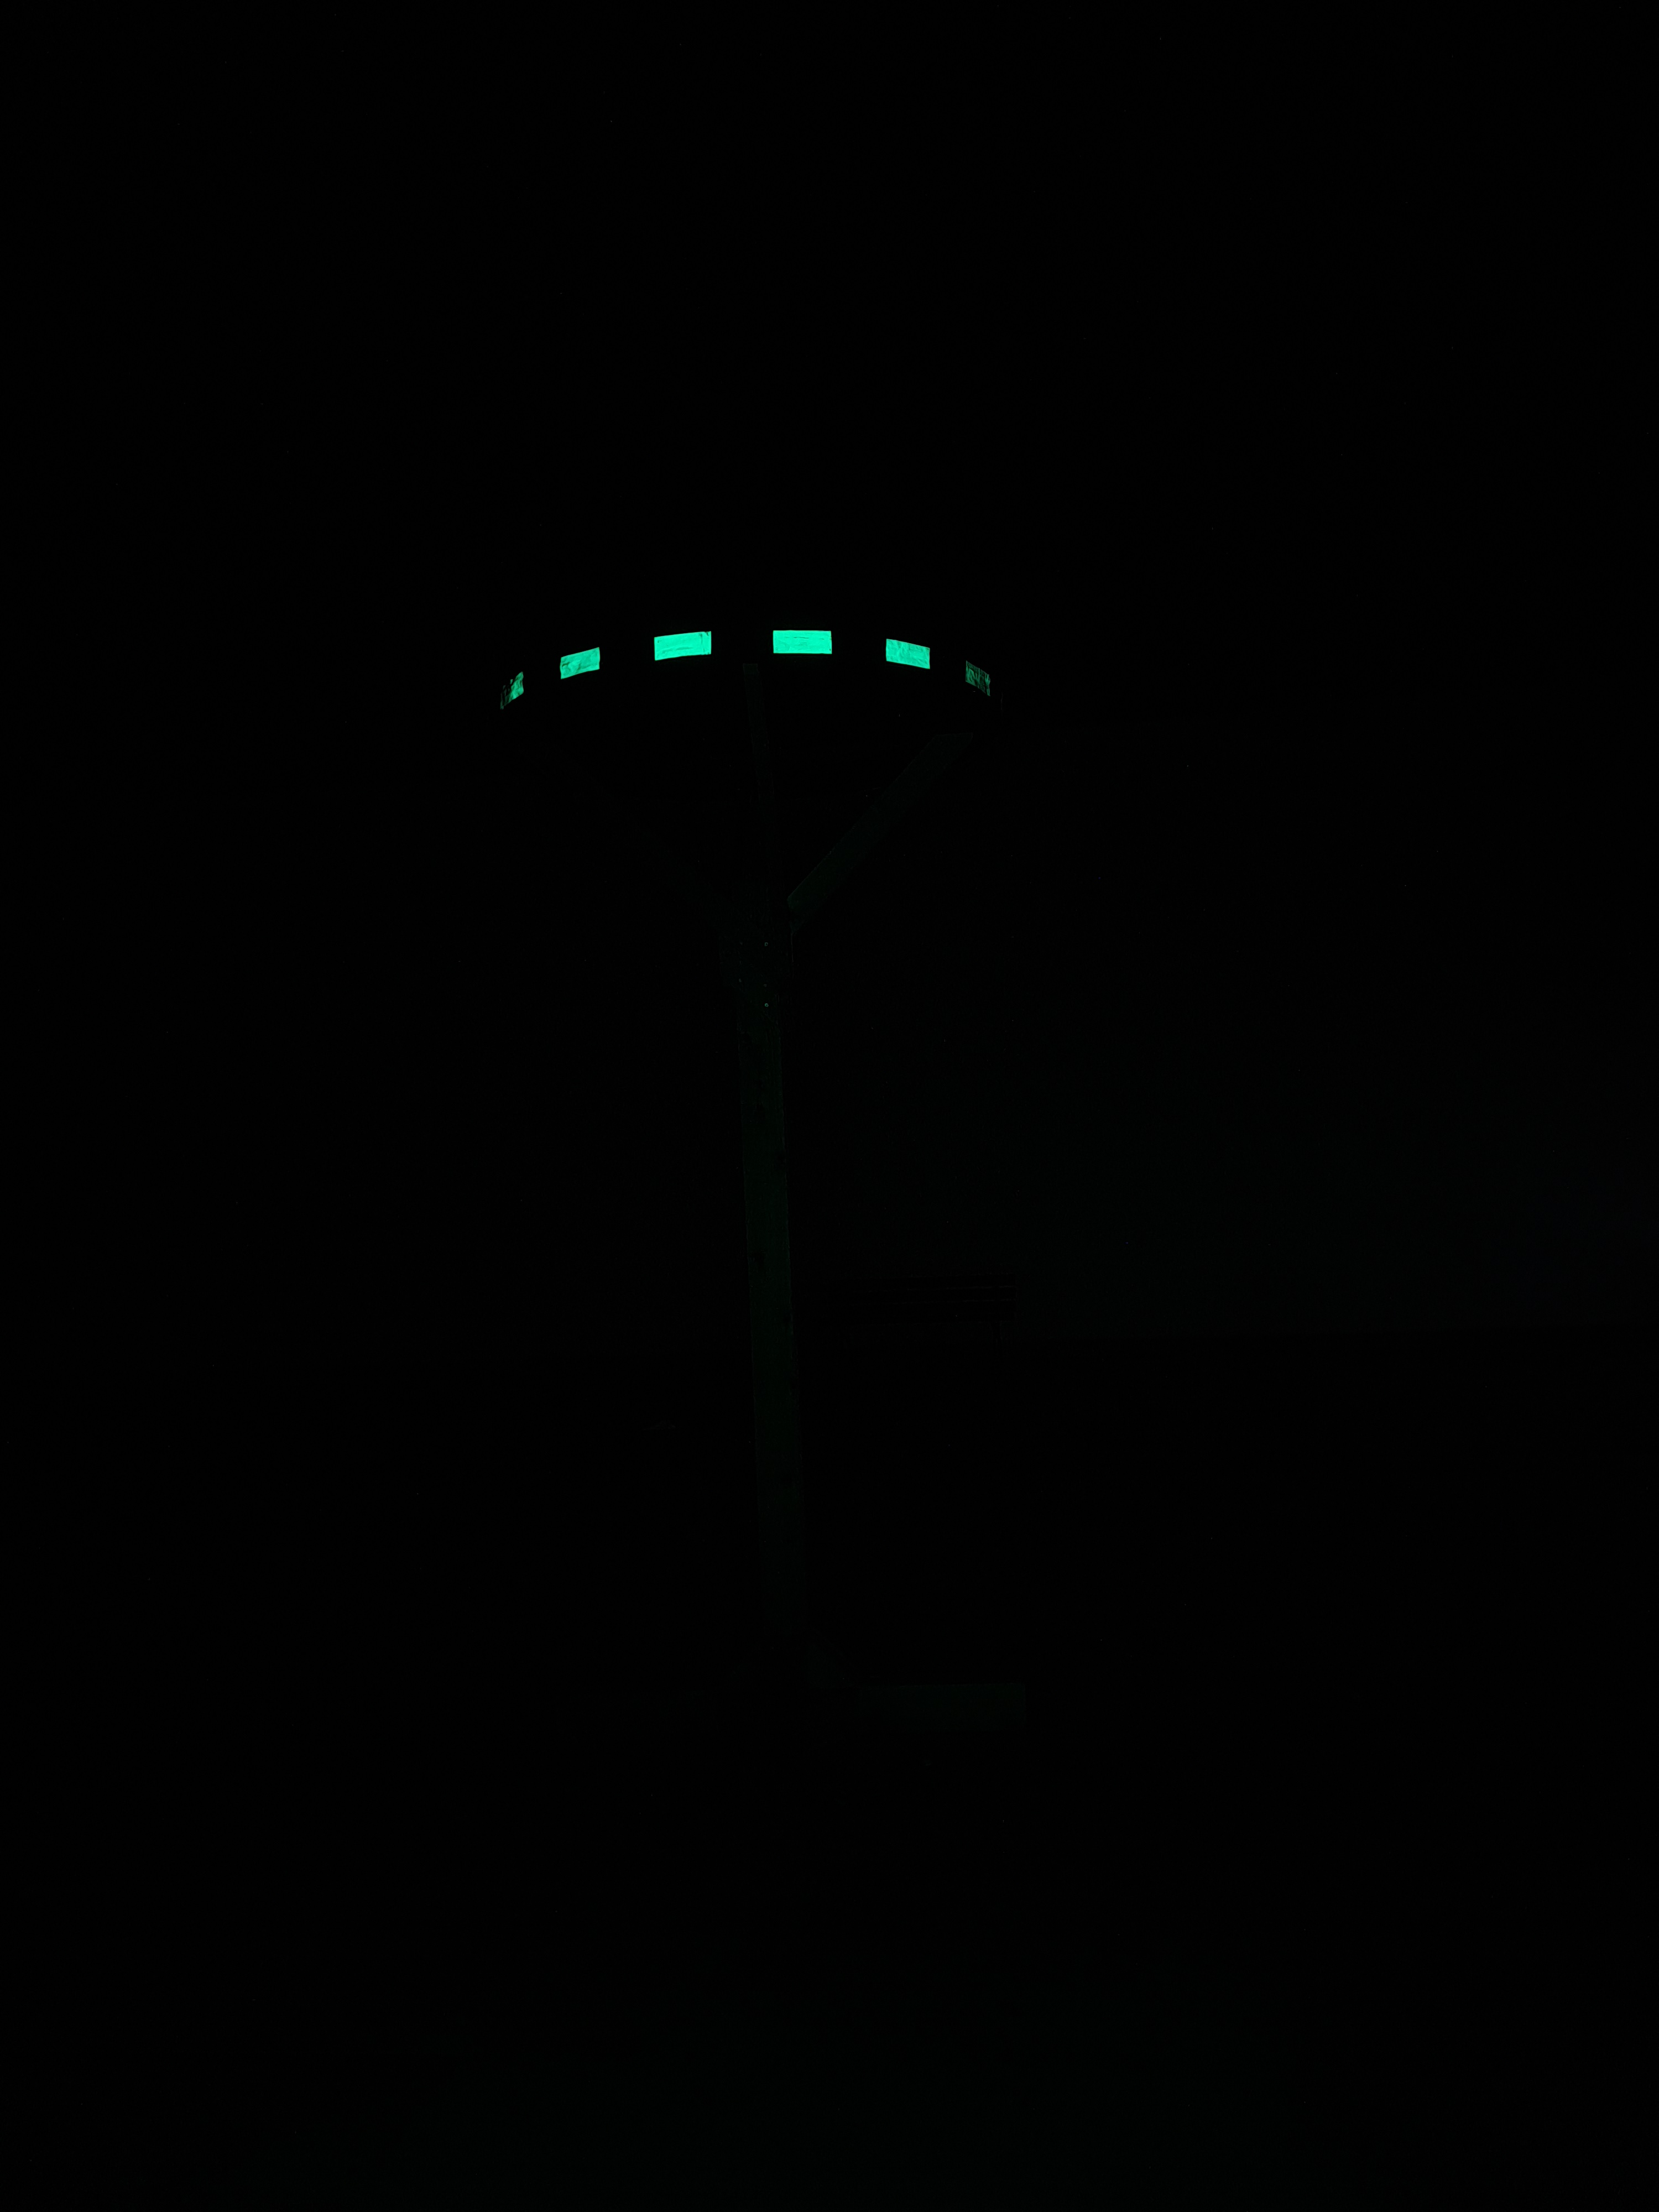hoop: (490, 606, 997, 735)
